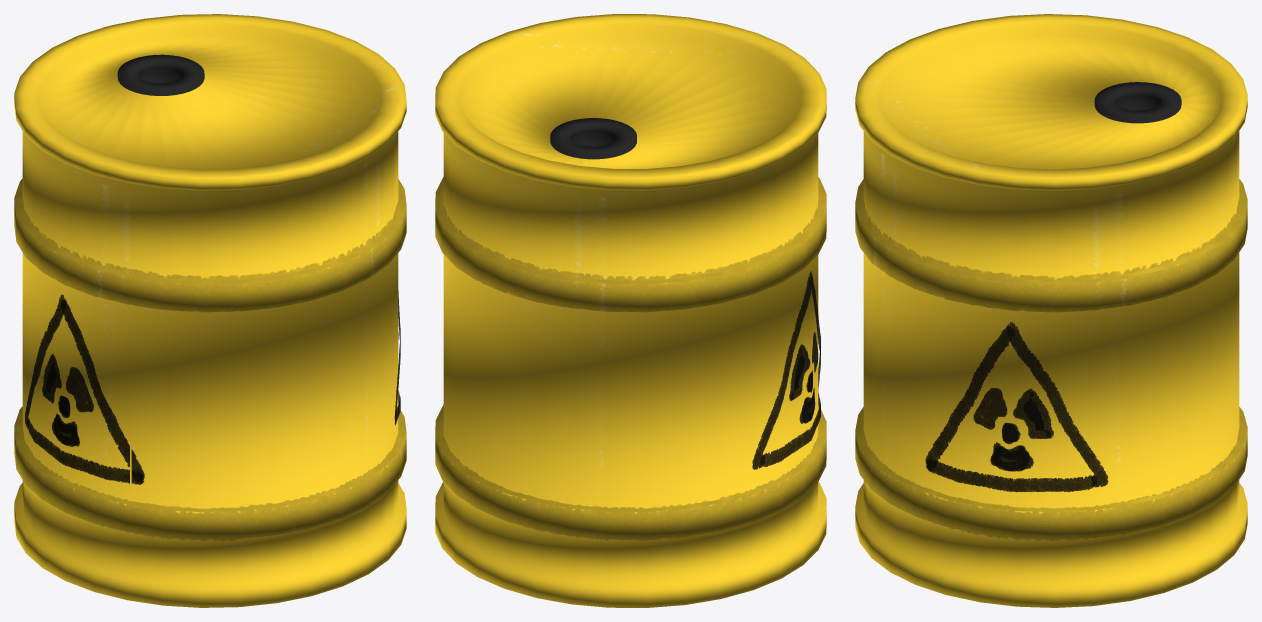
The model's file is toxic barrel.glb.
3 renders of one model, left to right at view 1: azimuth 30°, elevation 25°; view 2: azimuth 150°, elevation 25°; view 3: azimuth 270°, elevation 25°, orthographic.
Parts seen in each view (by area): view 1: Cylinder.024; view 2: Cylinder.024; view 3: Cylinder.024.
Boxes of the visible parts, x1=… form: Cylinder.024: x1=14, y1=14, x2=406, y2=607; Cylinder.024: x1=435, y1=14, x2=826, y2=607; Cylinder.024: x1=855, y1=14, x2=1247, y2=607.
Size of the model in its own units: 2.99 by 3.59 by 2.99.
3 materials, 2 textured.
